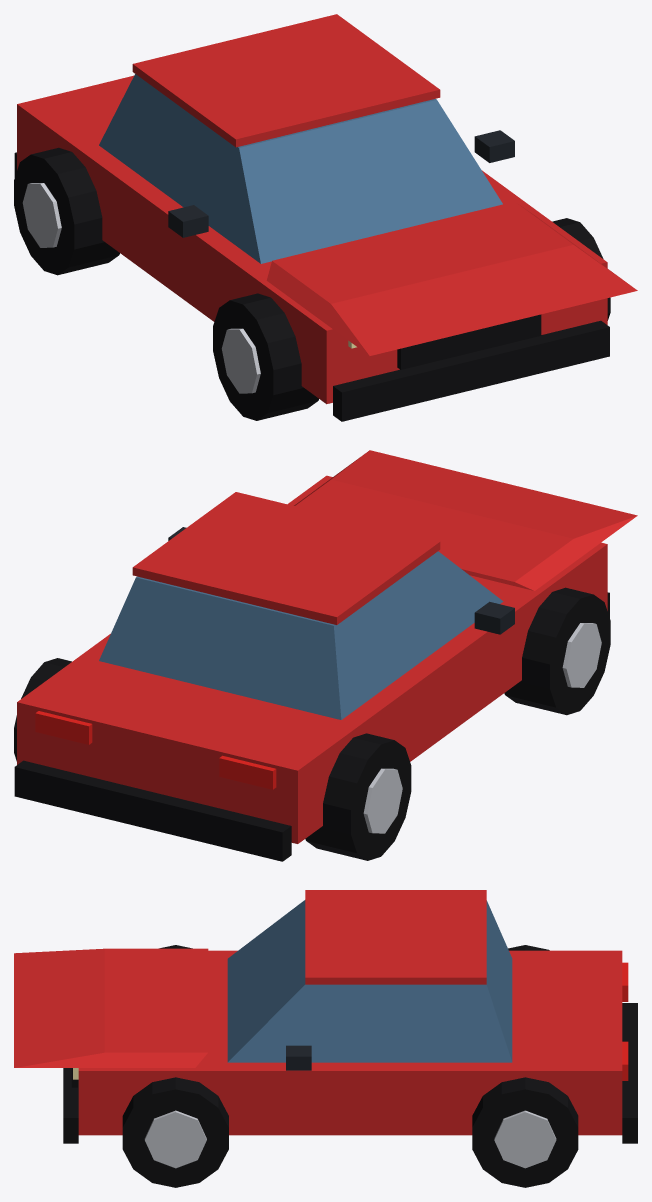
File: car.obj
The picture shows the model from 3 angles, top to bottom: view 1: azimuth 30°, elevation 25°; view 2: azimuth 150°, elevation 25°; view 3: azimuth 270°, elevation 25°; orthographic projection. The views are drawn at different scales.
Visible parts, largest first — view 1: cabin_glass, hood, body_lower, roof, tire, bumper_f, rim, grille, mirror_l, mirror_r; view 2: body_lower, cabin_glass, roof, hood, tire, bumper_r, rim, taillight_r, taillight_l, mirror_l; view 3: body_lower, cabin_glass, hood, roof, tire, rim, bumper_r, bumper_f, mirror_r.
Boxes of the visible parts, x1,y1,x2,y2 form: cabin_glass: [99, 74, 502, 263]; hood: [266, 201, 637, 355]; body_lower: [17, 75, 607, 404]; roof: [132, 14, 440, 147]; tire: [14, 147, 610, 420]; bumper_f: [333, 320, 609, 421]; rim: [22, 183, 260, 393]; grille: [397, 314, 541, 369]; mirror_l: [168, 205, 208, 237]; mirror_r: [474, 130, 514, 162]; body_lower: [17, 475, 607, 843]; cabin_glass: [99, 551, 503, 719]; roof: [132, 492, 440, 624]; hood: [294, 450, 637, 590]; tire: [14, 587, 610, 860]; bumper_r: [14, 760, 291, 861]; rim: [363, 623, 601, 833]; taillight_r: [35, 711, 92, 744]; taillight_l: [219, 755, 276, 789]; mirror_l: [474, 601, 514, 634]; body_lower: [78, 950, 622, 1135]; cabin_glass: [227, 900, 512, 1062]; hood: [14, 948, 208, 1067]; roof: [305, 890, 486, 984]; tire: [122, 945, 578, 1187]; rim: [144, 1110, 556, 1168]; bumper_r: [622, 1003, 637, 1143]; bumper_f: [63, 1068, 78, 1143]; mirror_r: [286, 1045, 311, 1070].
Size of the model in its own units: 2.7 by 1.55 by 4.82.
